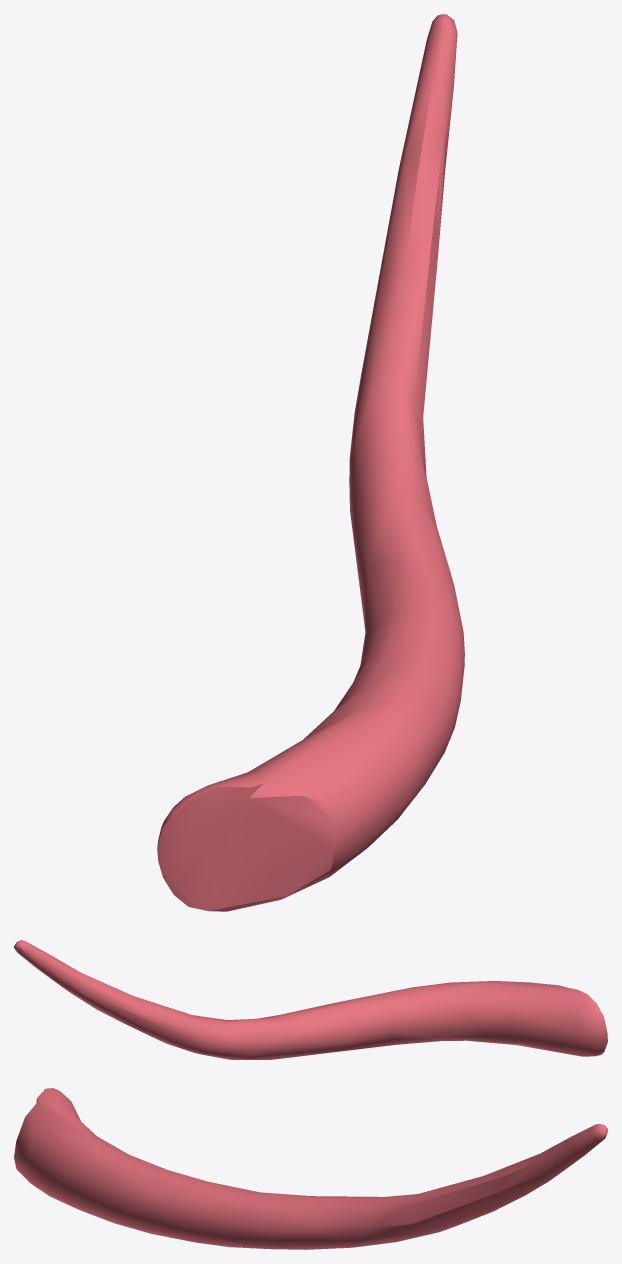
The model's file is fma9438_fj2939.glb.
3 views of the same model, one above another, from view 1: azimuth 30°, elevation 25°; view 2: azimuth 150°, elevation 25°; view 3: azimuth 270°, elevation 25° (orthographic). The views are drawn at different scales.
Visible parts, largest first — view 1: FMA9438_FJ2939; view 2: FMA9438_FJ2939; view 3: FMA9438_FJ2939.
Boxes of the visible parts, left/top/right/bottom form: FMA9438_FJ2939: left=157, top=14, right=464, bottom=911; FMA9438_FJ2939: left=14, top=940, right=607, bottom=1059; FMA9438_FJ2939: left=14, top=1088, right=607, bottom=1249.
Bounding box in the file's own units: 0.0433 × 0.0221 × 0.0491.
